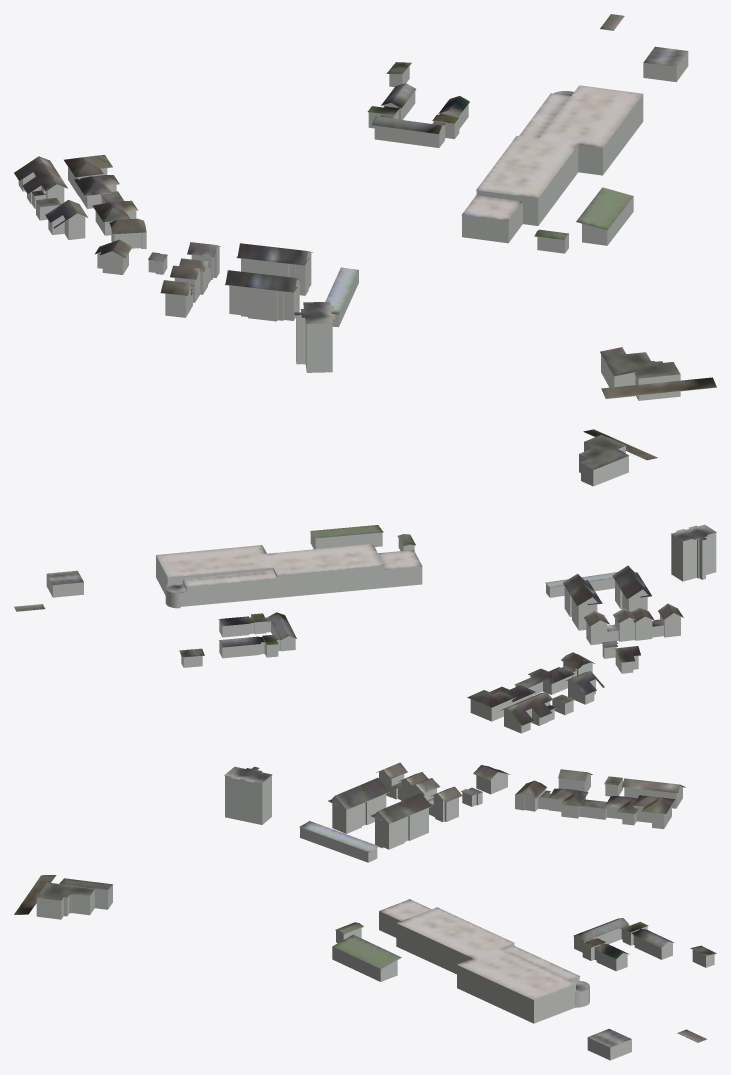
Rendered from LSME_-2_-1.glb.
3 renders of one model, top to bottom at view 1: azimuth 30°, elevation 25°; view 2: azimuth 150°, elevation 25°; view 3: azimuth 270°, elevation 25°, orthographic. The views are drawn at different scales.
Visible parts, largest first — view 1: building_aa648115b0770d19, building_a181e4682ffc8b73, building_39eeabb455987f47, building_fe5b5ad29c368be4, building_7eb4c882c078f604, building_7f0b085ce4d39eea, building_9f783188a0e209e7, building_cd8d560b4c8f90c4, building_6d2b425a8fa5398a, building_53c8c2925401d9ef; view 2: building_aa648115b0770d19, building_39eeabb455987f47, building_a181e4682ffc8b73, building_7eb4c882c078f604, building_fe5b5ad29c368be4, building_7f0b085ce4d39eea, building_cd8d560b4c8f90c4, building_9f783188a0e209e7, building_6d2b425a8fa5398a, building_53c8c2925401d9ef; view 3: building_aa648115b0770d19, building_39eeabb455987f47, building_fe5b5ad29c368be4, building_7eb4c882c078f604, building_a181e4682ffc8b73, building_7f0b085ce4d39eea, building_cd8d560b4c8f90c4, building_9f783188a0e209e7, building_53c8c2925401d9ef, building_6d2b425a8fa5398a.
Part boxes in pixels (bbox=[...]): building_aa648115b0770d19: bbox=[462, 85, 643, 230]; building_a181e4682ffc8b73: bbox=[14, 83, 469, 258]; building_39eeabb455987f47: bbox=[462, 95, 643, 245]; building_fe5b5ad29c368be4: bbox=[148, 234, 568, 327]; building_7eb4c882c078f604: bbox=[18, 91, 468, 274]; building_7f0b085ce4d39eea: bbox=[148, 229, 568, 315]; building_9f783188a0e209e7: bbox=[294, 301, 716, 398]; building_cd8d560b4c8f90c4: bbox=[296, 308, 680, 400]; building_6d2b425a8fa5398a: bbox=[386, 14, 688, 74]; building_53c8c2925401d9ef: bbox=[389, 52, 688, 87]; building_aa648115b0770d19: bbox=[156, 525, 422, 593]; building_39eeabb455987f47: bbox=[156, 532, 422, 608]; building_a181e4682ffc8b73: bbox=[218, 612, 640, 725]; building_7eb4c882c078f604: bbox=[219, 615, 638, 733]; building_fe5b5ad29c368be4: bbox=[398, 538, 680, 658]; building_7f0b085ce4d39eea: bbox=[397, 534, 683, 648]; building_cd8d560b4c8f90c4: bbox=[579, 442, 716, 581]; building_9f783188a0e209e7: bbox=[579, 429, 716, 541]; building_6d2b425a8fa5398a: bbox=[14, 570, 204, 657]; building_53c8c2925401d9ef: bbox=[46, 575, 202, 667]; building_aa648115b0770d19: bbox=[332, 899, 589, 1000]; building_39eeabb455987f47: bbox=[332, 911, 589, 1023]; building_fe5b5ad29c368be4: bbox=[300, 770, 482, 942]; building_7eb4c882c078f604: bbox=[476, 772, 682, 971]; building_a181e4682ffc8b73: bbox=[473, 765, 685, 959]; building_7f0b085ce4d39eea: bbox=[299, 762, 482, 934]; building_cd8d560b4c8f90c4: bbox=[36, 776, 271, 919]; building_9f783188a0e209e7: bbox=[14, 766, 272, 914]; building_53c8c2925401d9ef: bbox=[587, 950, 714, 1060]; building_6d2b425a8fa5398a: bbox=[587, 945, 716, 1047].
Size of the model in its own units: 289 by 22.09 by 314.
2 materials, 1 textured.
